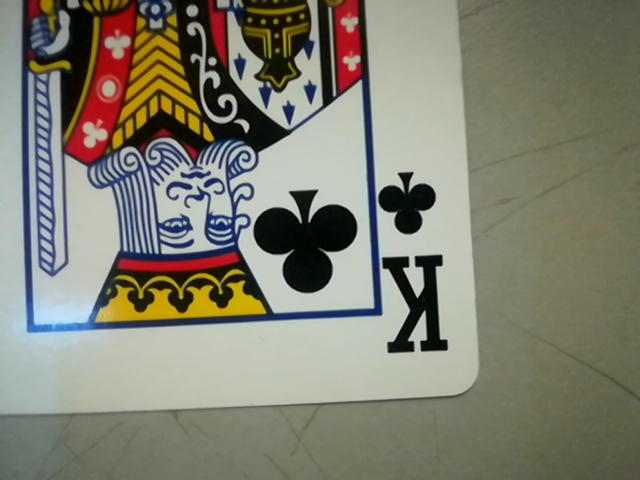mh k: (359, 164, 467, 366)
